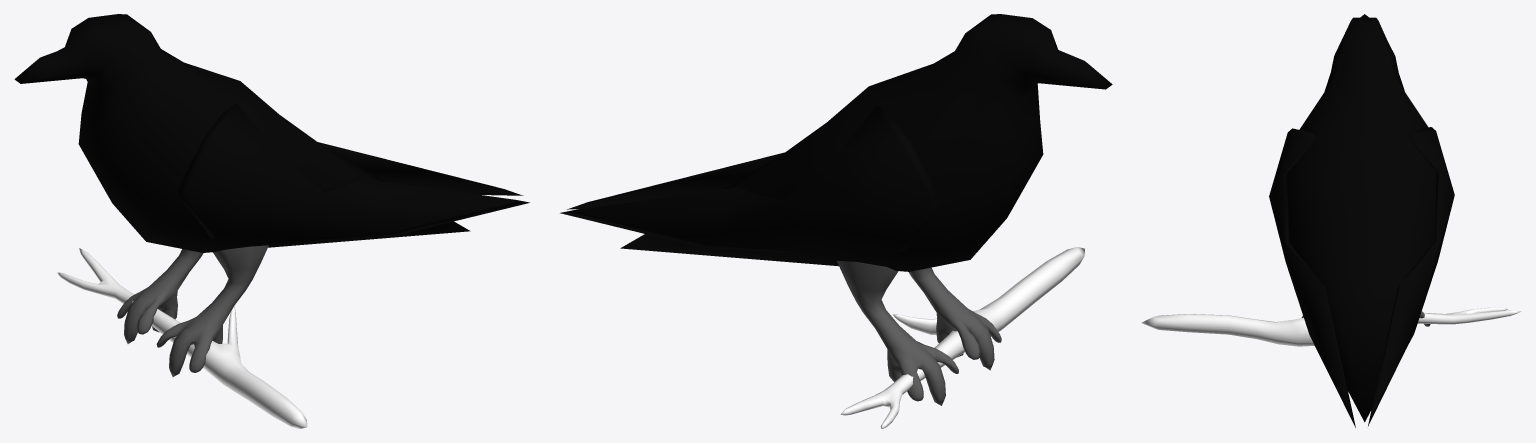
Rendered from Kraai op stok.fbx.
The picture shows the model from 3 angles, left to right: view 1: azimuth 30°, elevation 25°; view 2: azimuth 150°, elevation 25°; view 3: azimuth 270°, elevation 25°; orthographic projection. The views are drawn at different scales.
Parts seen in each view (by area): view 1: Kraai, Vleugel links, Poten, Stok, Vleugel rechts; view 2: Kraai, Vleugel rechts, Poten, Stok, Vleugel links; view 3: Kraai, Vleugel links, Vleugel rechts, Stok.
Part boxes in pixels (x1,y1,x2,y2): Kraai: (14, 14, 470, 252); Vleugel links: (176, 103, 529, 241); Poten: (117, 245, 268, 376); Stok: (57, 248, 307, 428); Vleugel rechts: (318, 142, 523, 195); Kraai: (620, 14, 1112, 271); Vleugel rechts: (560, 104, 941, 254); Poten: (837, 261, 1001, 405); Stok: (840, 247, 1084, 428); Vleugel links: (567, 152, 784, 209); Kraai: (1287, 14, 1436, 422); Vleugel links: (1269, 128, 1355, 427); Vleugel rechts: (1368, 127, 1454, 426); Stok: (1141, 307, 1521, 346).
Bounding box in the file's own units: 70.18 × 46.23 × 54.5.
1 material, 1 textured.
